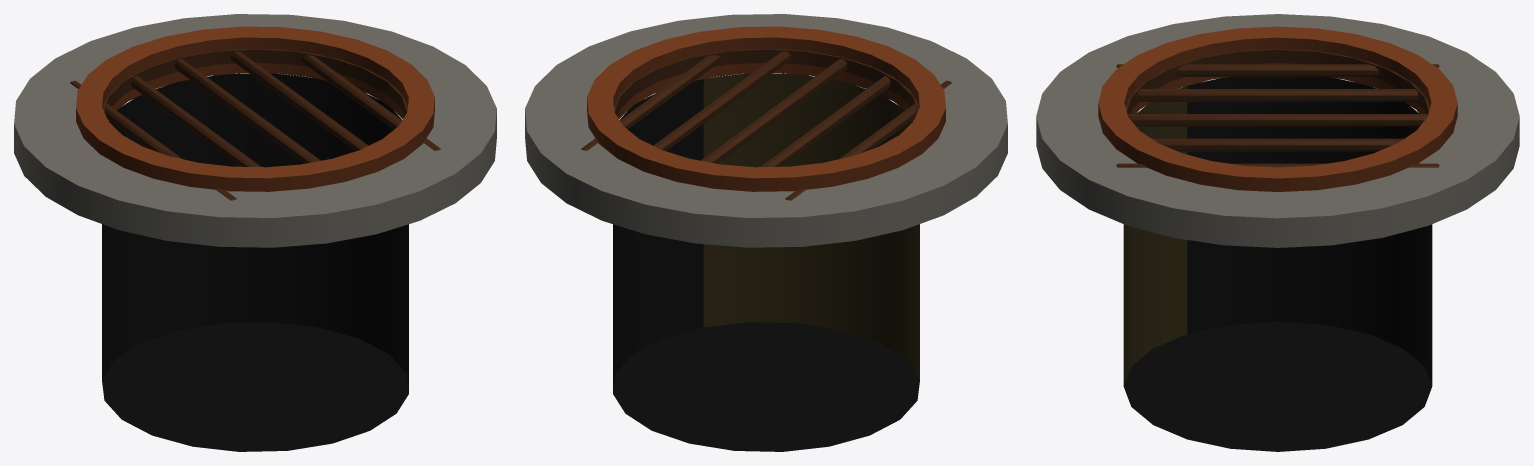
The model's file is L17D_Outfall.fbx.
3 renders of one model, left to right at view 1: azimuth 30°, elevation 25°; view 2: azimuth 150°, elevation 25°; view 3: azimuth 270°, elevation 25°, orthographic.
Parts seen in each view (by area): view 1: Bore, Collar, Pipe, Grille; view 2: Bore, Collar, Pipe, Grille; view 3: Bore, Collar, Pipe, Grille.
Boxes of the visible parts, box(x1,y1,x2,y2) form: Bore: box(102, 73, 408, 451); Collar: box(14, 14, 496, 247); Pipe: box(76, 26, 434, 191); Grille: box(70, 49, 440, 200); Bore: box(613, 73, 919, 451); Collar: box(525, 14, 1007, 247); Pipe: box(587, 26, 945, 191); Grille: box(581, 49, 951, 200); Bore: box(1123, 77, 1432, 451); Collar: box(1036, 14, 1519, 247); Pipe: box(1098, 26, 1457, 191); Grille: box(1116, 49, 1439, 167).
Bounding box in the file's own units: 0.74 × 0.48 × 0.74.
